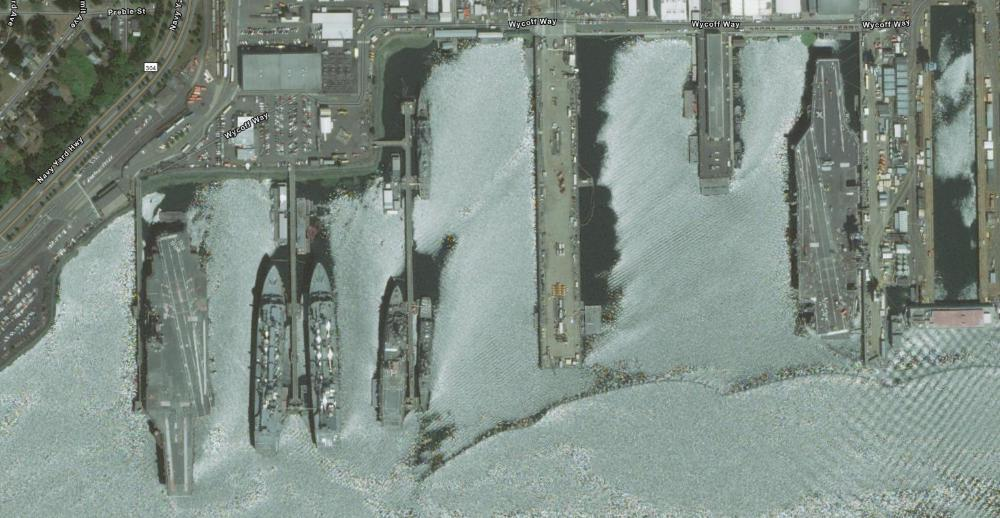carrier: (780, 46, 869, 352), (131, 227, 223, 510)
cruiser: (416, 291, 451, 419), (416, 88, 445, 209)
tender: (303, 258, 367, 452), (244, 261, 302, 468)
